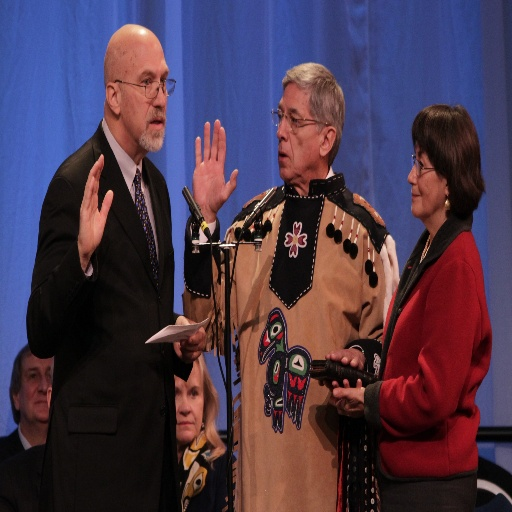hand: (190, 119, 235, 238), (75, 153, 115, 254), (172, 311, 207, 366), (328, 375, 368, 421), (325, 346, 365, 369)
